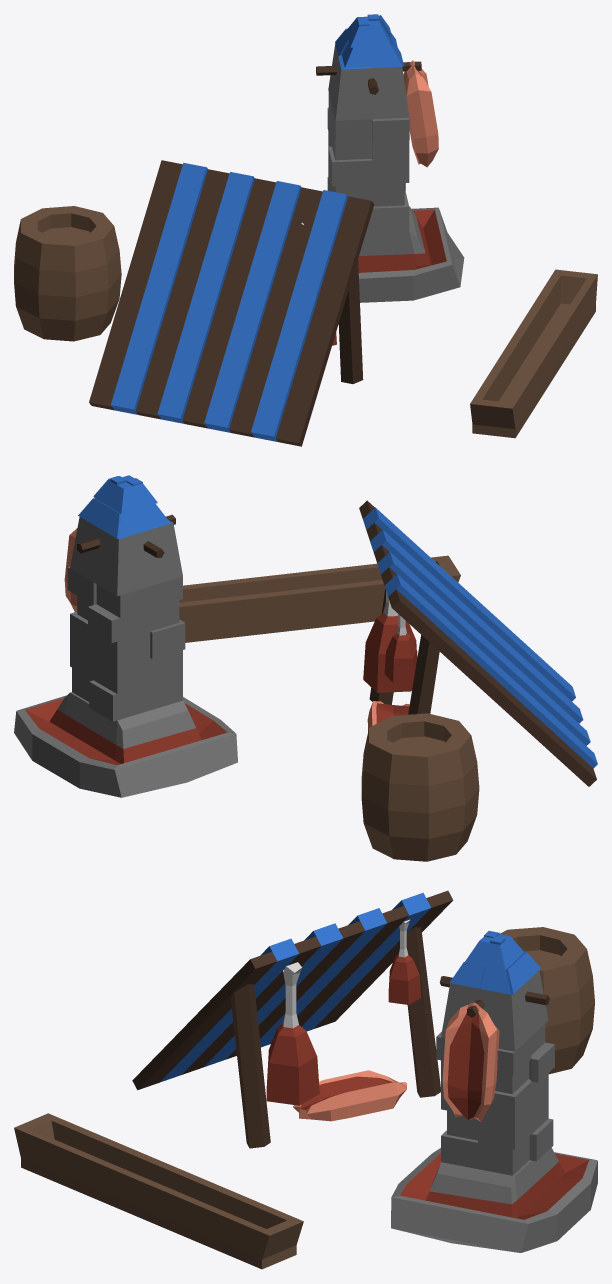
The model's file is Butcher_LvL1.fbx.
3 views of the same model, one above another, from view 1: azimuth 30°, elevation 25°; view 2: azimuth 150°, elevation 25°; view 3: azimuth 270°, elevation 25° (orthographic). The views are drawn at different scales.
Visible parts, largest first — view 1: Holz 2.002, teamcolor, Holz 1.002, Stein.002, Fleisch hell, Fleisch dunkel; view 2: Stein.002, Holz 1.002, teamcolor, Holz 2.002, Fleisch dunkel, haxe|flesh.005|Dupli|1, haxe.001|flesh.005|Dupli|1, Fleisch hell; view 3: Stein.002, Holz 1.002, Holz 2.002, teamcolor, Fleisch dunkel, Fleisch hell, haxe|flesh.005|Dupli|1, haxe.001|flesh.005|Dupli|1, haxe|bone.005|Dupli|.
Boxes of the visible parts, bbox=[...] form: Holz 2.002: bbox=[89, 61, 421, 446]; teamcolor: bbox=[111, 14, 403, 441]; Holz 1.002: bbox=[14, 206, 597, 438]; Stein.002: bbox=[327, 44, 464, 302]; Fleisch hell: bbox=[403, 60, 438, 167]; Fleisch dunkel: bbox=[358, 71, 446, 272]; Stein.002: bbox=[14, 517, 237, 797]; Holz 1.002: bbox=[179, 555, 479, 861]; teamcolor: bbox=[78, 475, 597, 768]; Holz 2.002: bbox=[77, 500, 596, 786]; Fleisch dunkel: bbox=[25, 698, 409, 765]; haxe|flesh.005|Dupli|1: bbox=[363, 612, 416, 692]; haxe.001|flesh.005|Dupli|1: bbox=[384, 633, 417, 682]; Fleisch hell: bbox=[64, 528, 409, 731]; Stein.002: bbox=[391, 970, 597, 1252]; Holz 1.002: bbox=[14, 927, 594, 1269]; Holz 2.002: bbox=[132, 890, 549, 1148]; teamcolor: bbox=[160, 892, 540, 1082]; Fleisch dunkel: bbox=[300, 1012, 588, 1219]; Fleisch hell: bbox=[293, 1002, 499, 1121]; haxe|flesh.005|Dupli|1: bbox=[266, 1023, 319, 1105]; haxe.001|flesh.005|Dupli|1: bbox=[388, 954, 420, 1004]; haxe|bone.005|Dupli|: bbox=[283, 962, 301, 1028].
Bounding box in the file's own units: 135 × 68.26 × 129.
